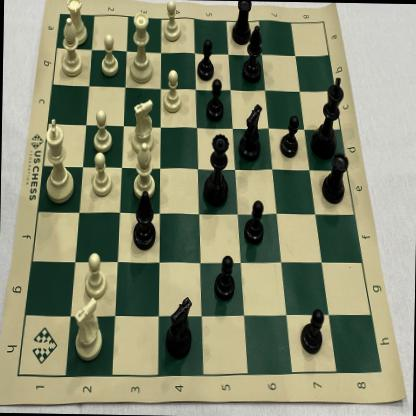bishop: (123, 187, 159, 252), (130, 139, 160, 204), (57, 15, 86, 79), (240, 21, 265, 87)
king: (38, 113, 80, 208), (310, 70, 346, 163)
knight: (70, 296, 108, 364), (129, 94, 157, 154)
pawn: (296, 305, 326, 358), (80, 247, 109, 300), (211, 250, 238, 305), (88, 149, 116, 199), (240, 196, 266, 247), (90, 104, 115, 156), (160, 66, 184, 116), (97, 30, 121, 79), (204, 72, 226, 124), (278, 112, 301, 161), (194, 33, 216, 83), (160, 0, 184, 45)
queen: (200, 130, 232, 208), (126, 10, 158, 87)
rook: (318, 148, 351, 208), (63, 0, 92, 49), (229, 0, 254, 48)
